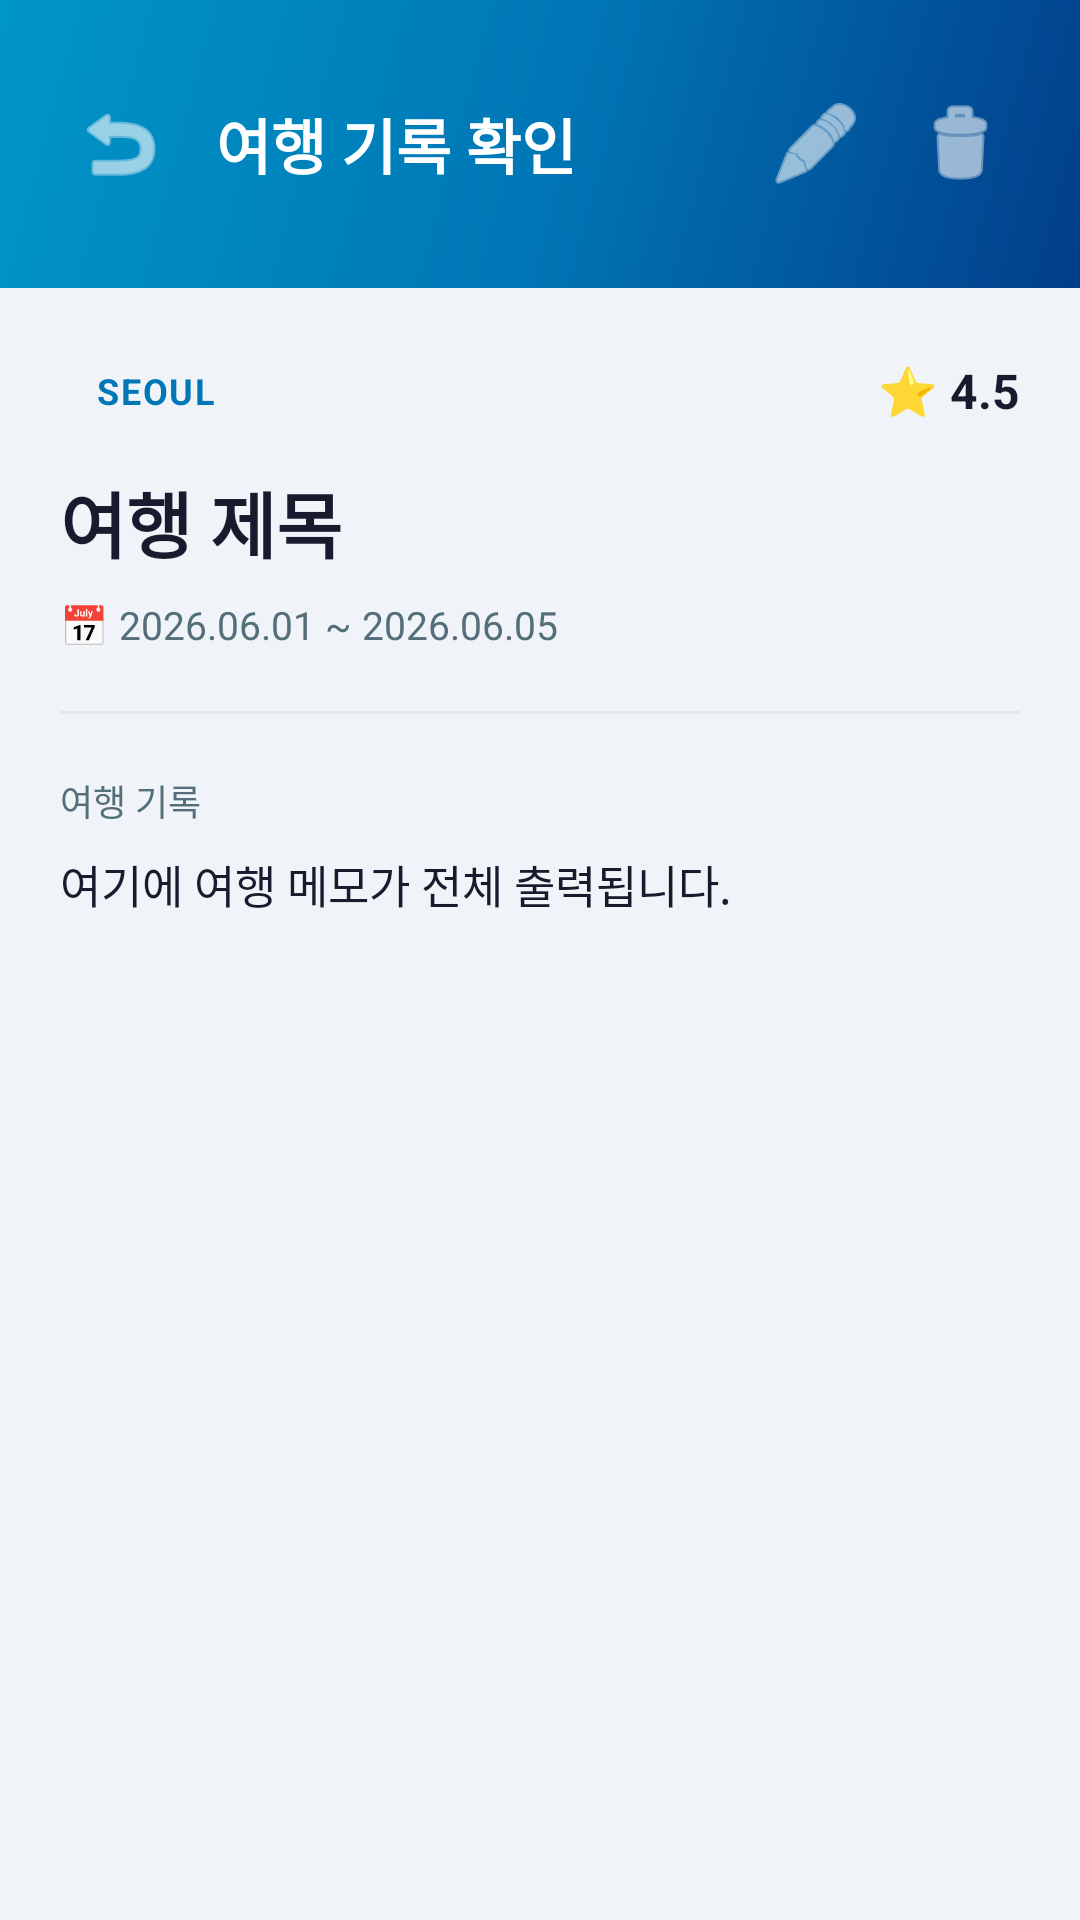

Screen size 1080x1920. Icon name, then its box in pixels as rect(x1, y1, x2, y2):
Delete: rect(933, 105, 988, 180)
Edit: rect(775, 103, 856, 184)
Go back: rect(87, 113, 156, 176)
